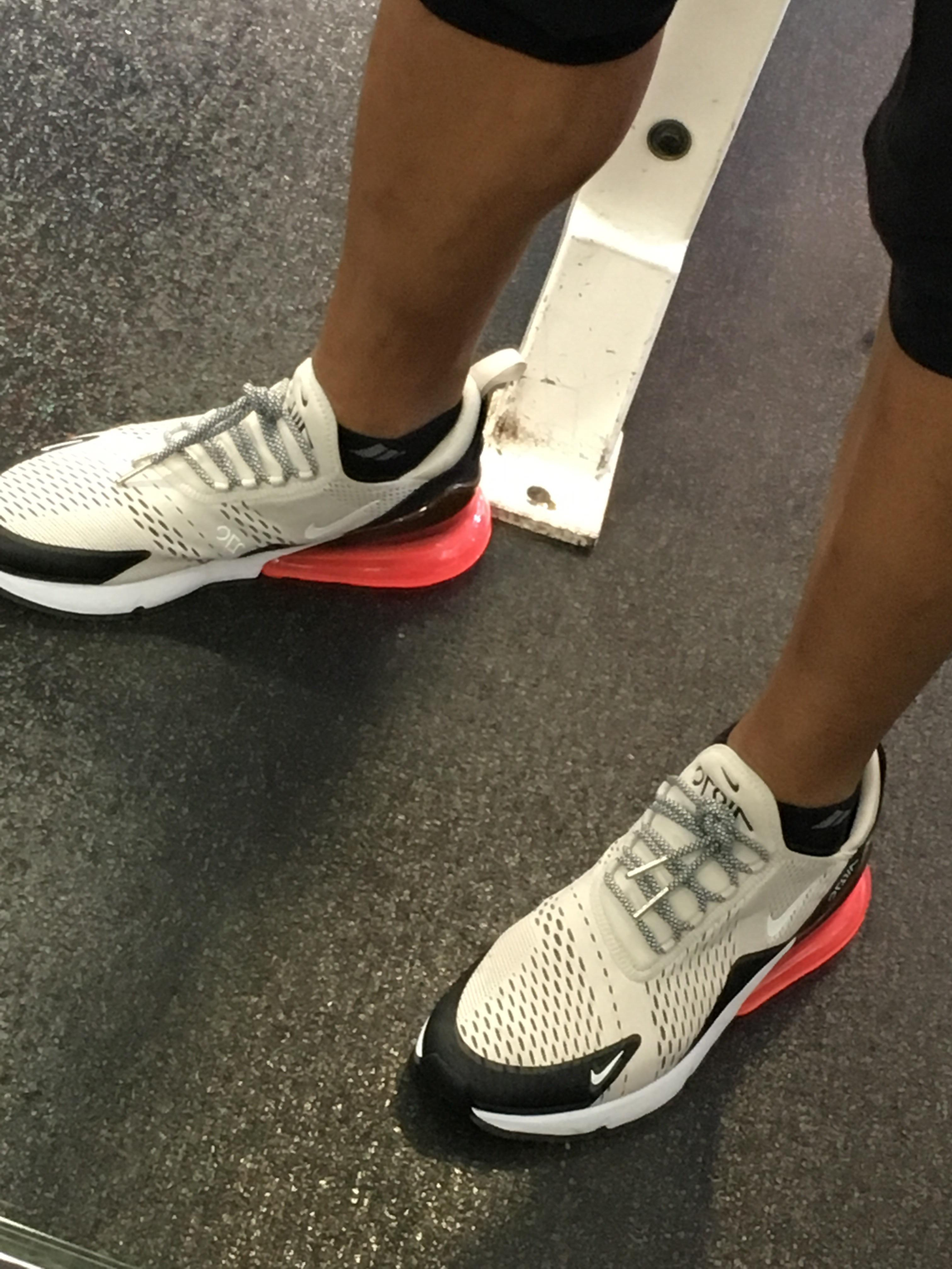sneaker: (416, 705, 889, 1147), (1, 346, 521, 614)
